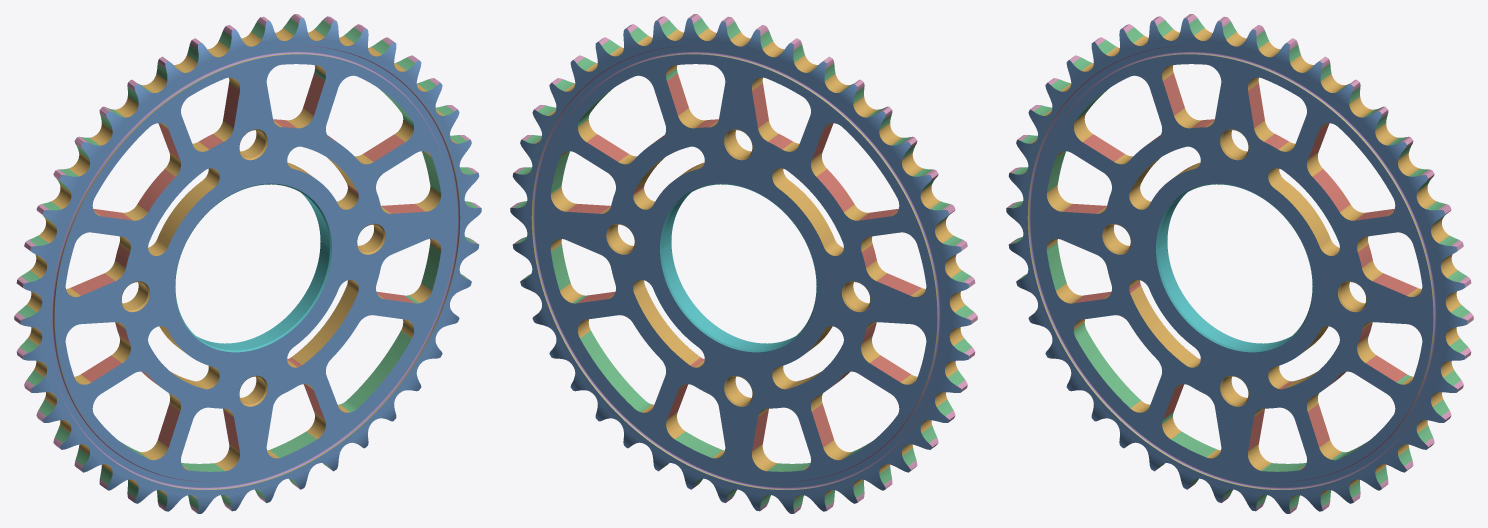
The picture shows the model from 3 angles, left to right: view 1: azimuth 30°, elevation 25°; view 2: azimuth 150°, elevation 25°; view 3: azimuth 330°, elevation 25°; orthographic projection.
Visible parts, largest first — view 1: MOTORCYCLE SPROCKET 428 - 42T; view 2: MOTORCYCLE SPROCKET 428 - 42T; view 3: MOTORCYCLE SPROCKET 428 - 42T.
Boxes of the visible parts, x1,y1,x2,y2 form: MOTORCYCLE SPROCKET 428 - 42T: [14, 14, 481, 513]; MOTORCYCLE SPROCKET 428 - 42T: [510, 14, 977, 513]; MOTORCYCLE SPROCKET 428 - 42T: [1006, 14, 1473, 513].
Size of the model in its own units: 0.1762 by 0.1758 by 0.00723.
